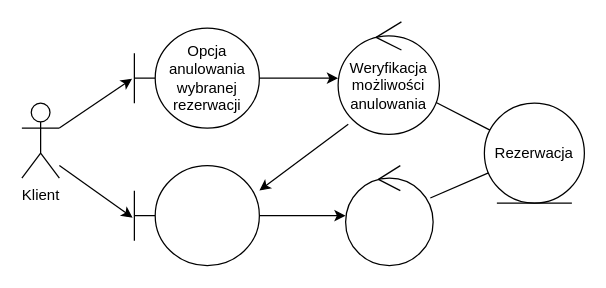
The diagram is 606 pixels wide and 288 high, and some of its shapes have lost their labels. Here are the shapes that lost their labels. From the top down, the box of each, then its label:
(133, 164, 259, 266): Potwierdzenie anulowania
(344, 164, 433, 266): Anulowanie rezerwacji
